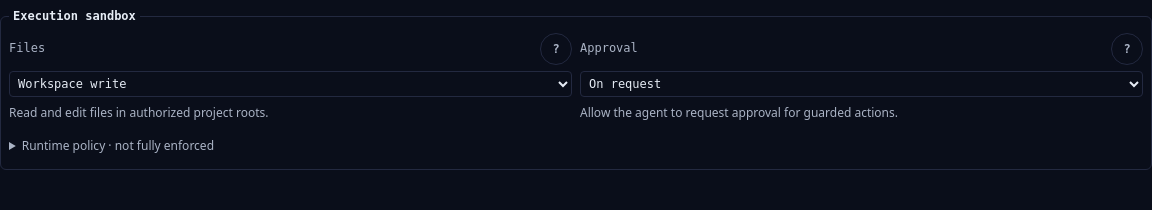
Test: SandboxPolicyControls › shows the server-resolved posture and unsupported guarantees
The width and height of the screenshot is (1152, 210).
Click the heading "Runtime policy · not fully enforced".
click(118, 146)  # box [22,137,214,154]
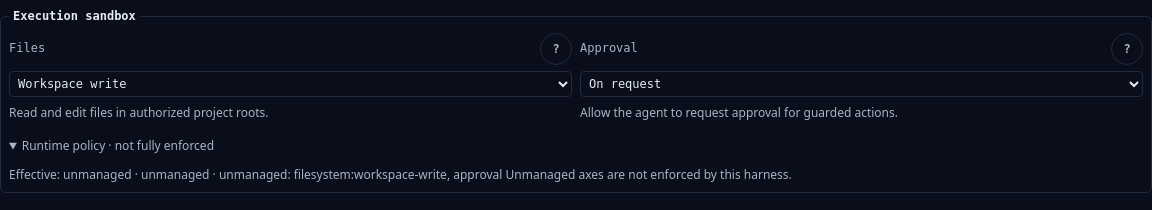
Now the text "Effective: unmanaged" is shown, box [9,166,792,183]
Now the text "Effective: unmanaged" shows "unmanaged: filesystem:workspace-write, approval", box [210,166,502,183]
